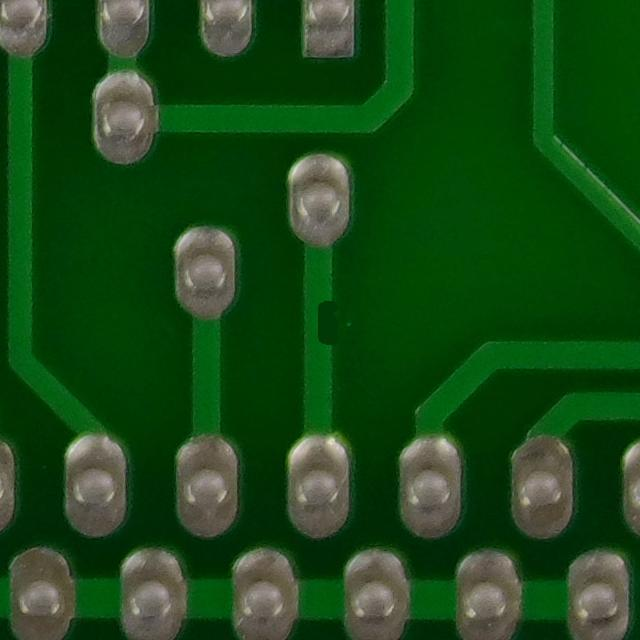mouse_bite: (292, 283, 349, 357)
